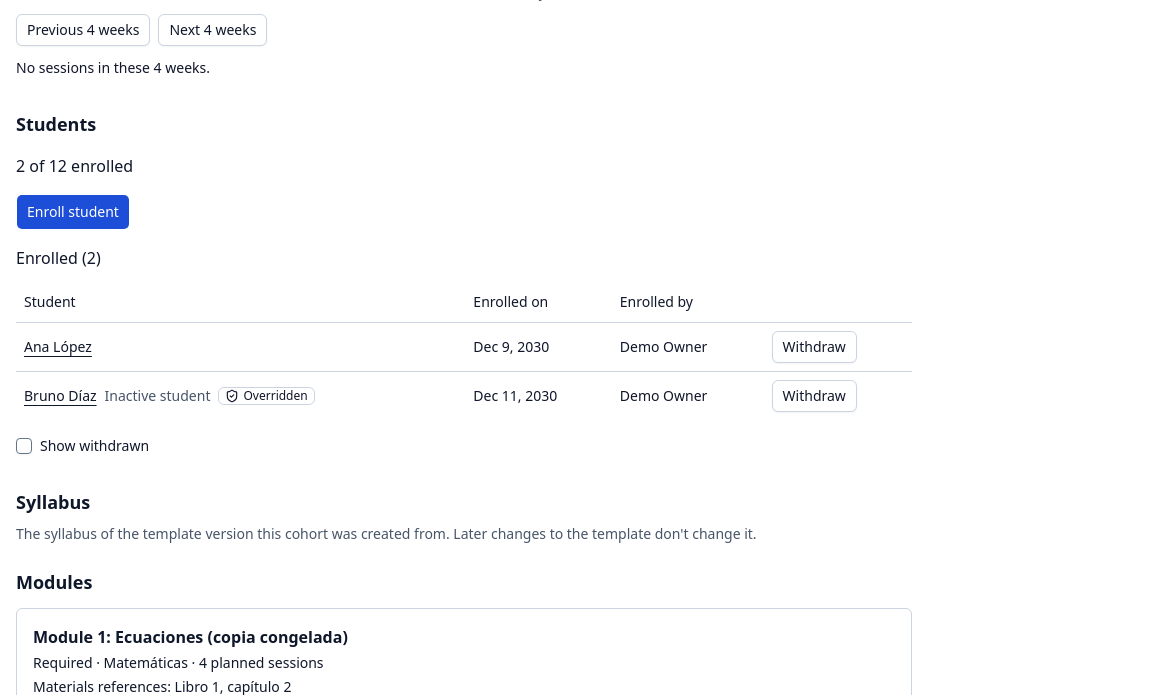
the withdraw dialog (C) › closes on enrollment_not_active, reloads the roster and says so
The image size is (1152, 695).
(page scrolled)
What coordinates should you click on to do the following:
click the button "Withdraw" in the row of "Ana López"
I would click on:
 (814, 346)
Its box is [772,330,857,362].
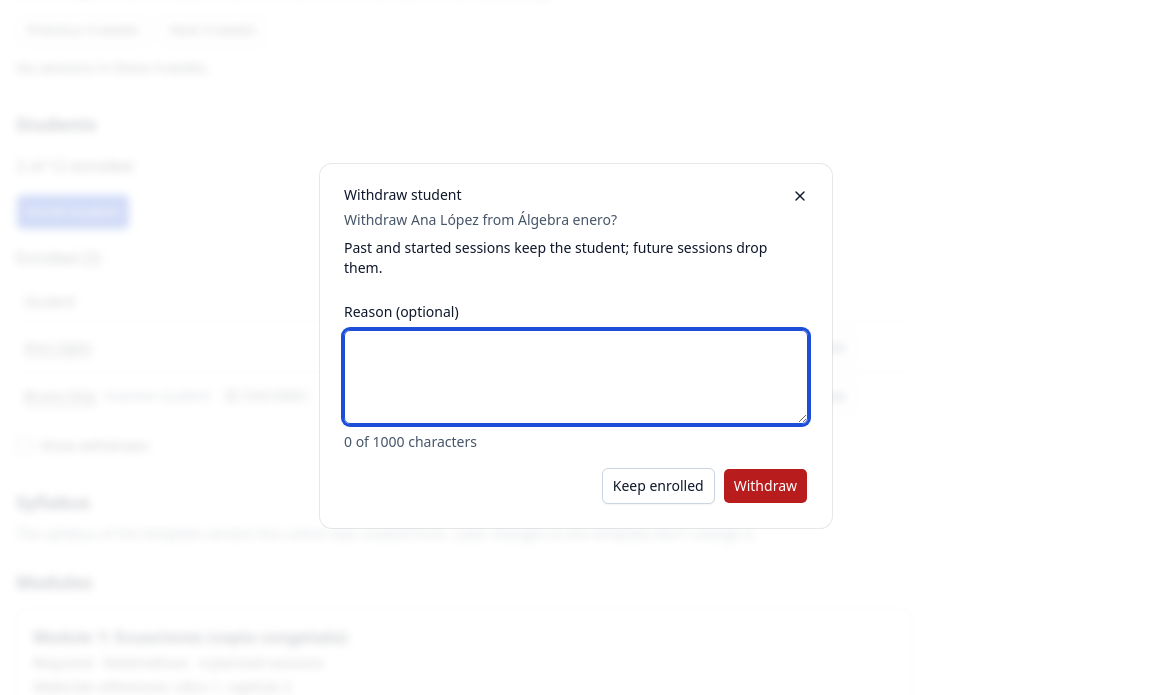
What coordinates should you click on to do the following:
click the button "Withdraw"
I would click on:
 (765, 486)
Its box is [723,468,808,504].
(page scrolled)
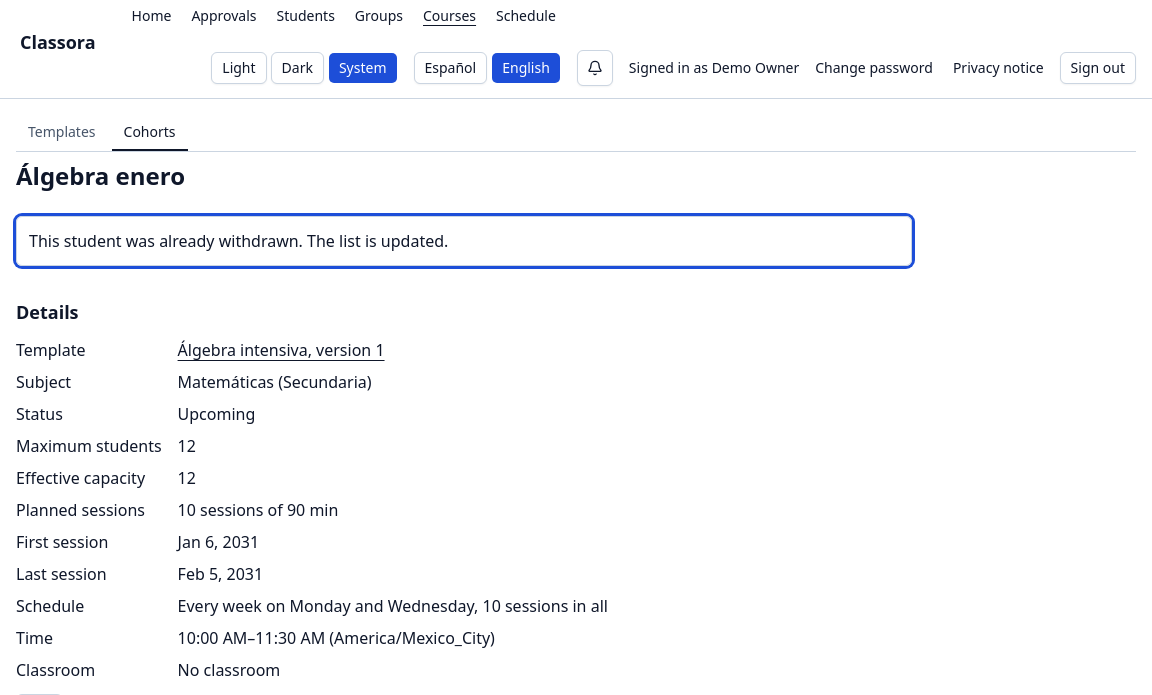
Check: the dialog is gone
Check: the message "This student was already withdrawn. The list is updated." is shown, box [16,216,912,266]
